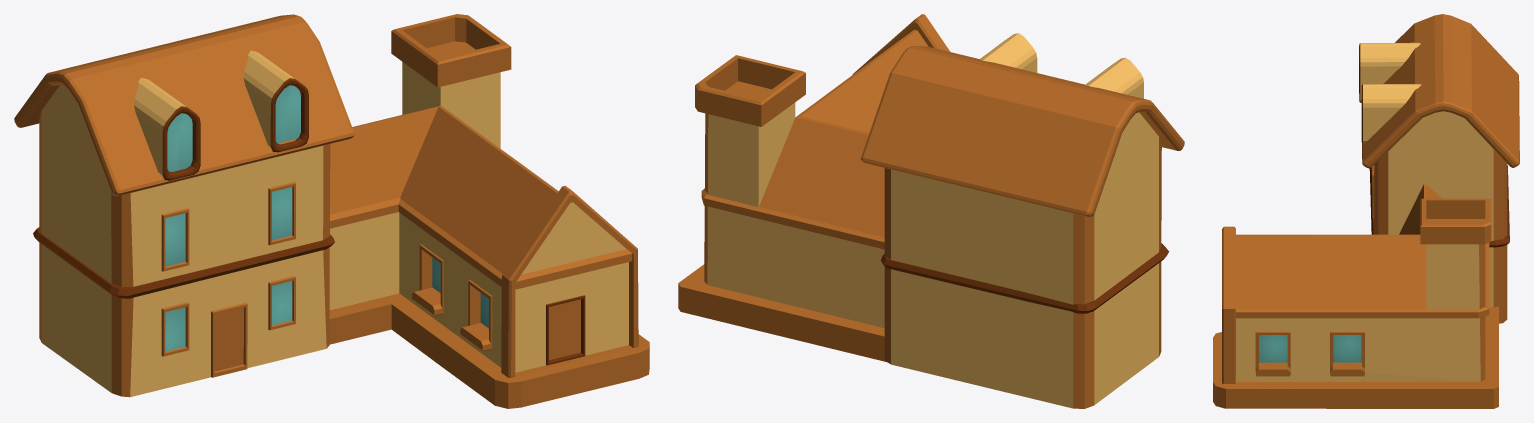
File: SM_House_11.fbx
3 renders of one model, left to right at view 1: azimuth 30°, elevation 25°; view 2: azimuth 150°, elevation 25°; view 3: azimuth 270°, elevation 25°, orthographic. The views are drawn at different scales.
Visible parts, largest first — view 1: SM_House_11; view 2: SM_House_11; view 3: SM_House_11.
Boxes of the visible parts, left/top/right/bottom form: SM_House_11: left=14, top=14, right=649, bottom=408; SM_House_11: left=678, top=14, right=1184, bottom=408; SM_House_11: left=1213, top=14, right=1519, bottom=408.
Size of the model in its own units: 1405 by 900 by 1090.
